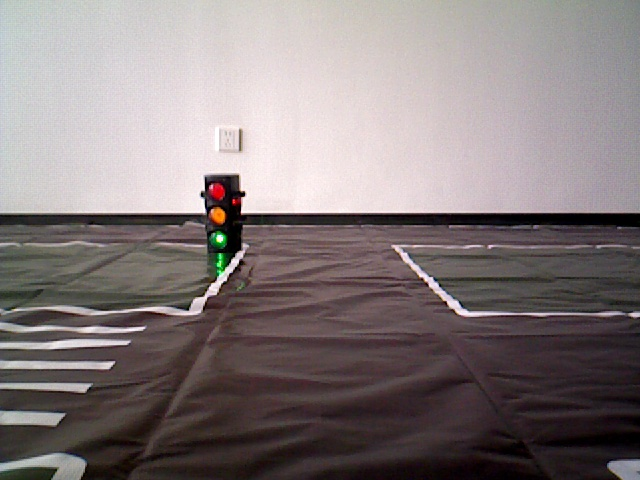green: (204, 176, 239, 244)
